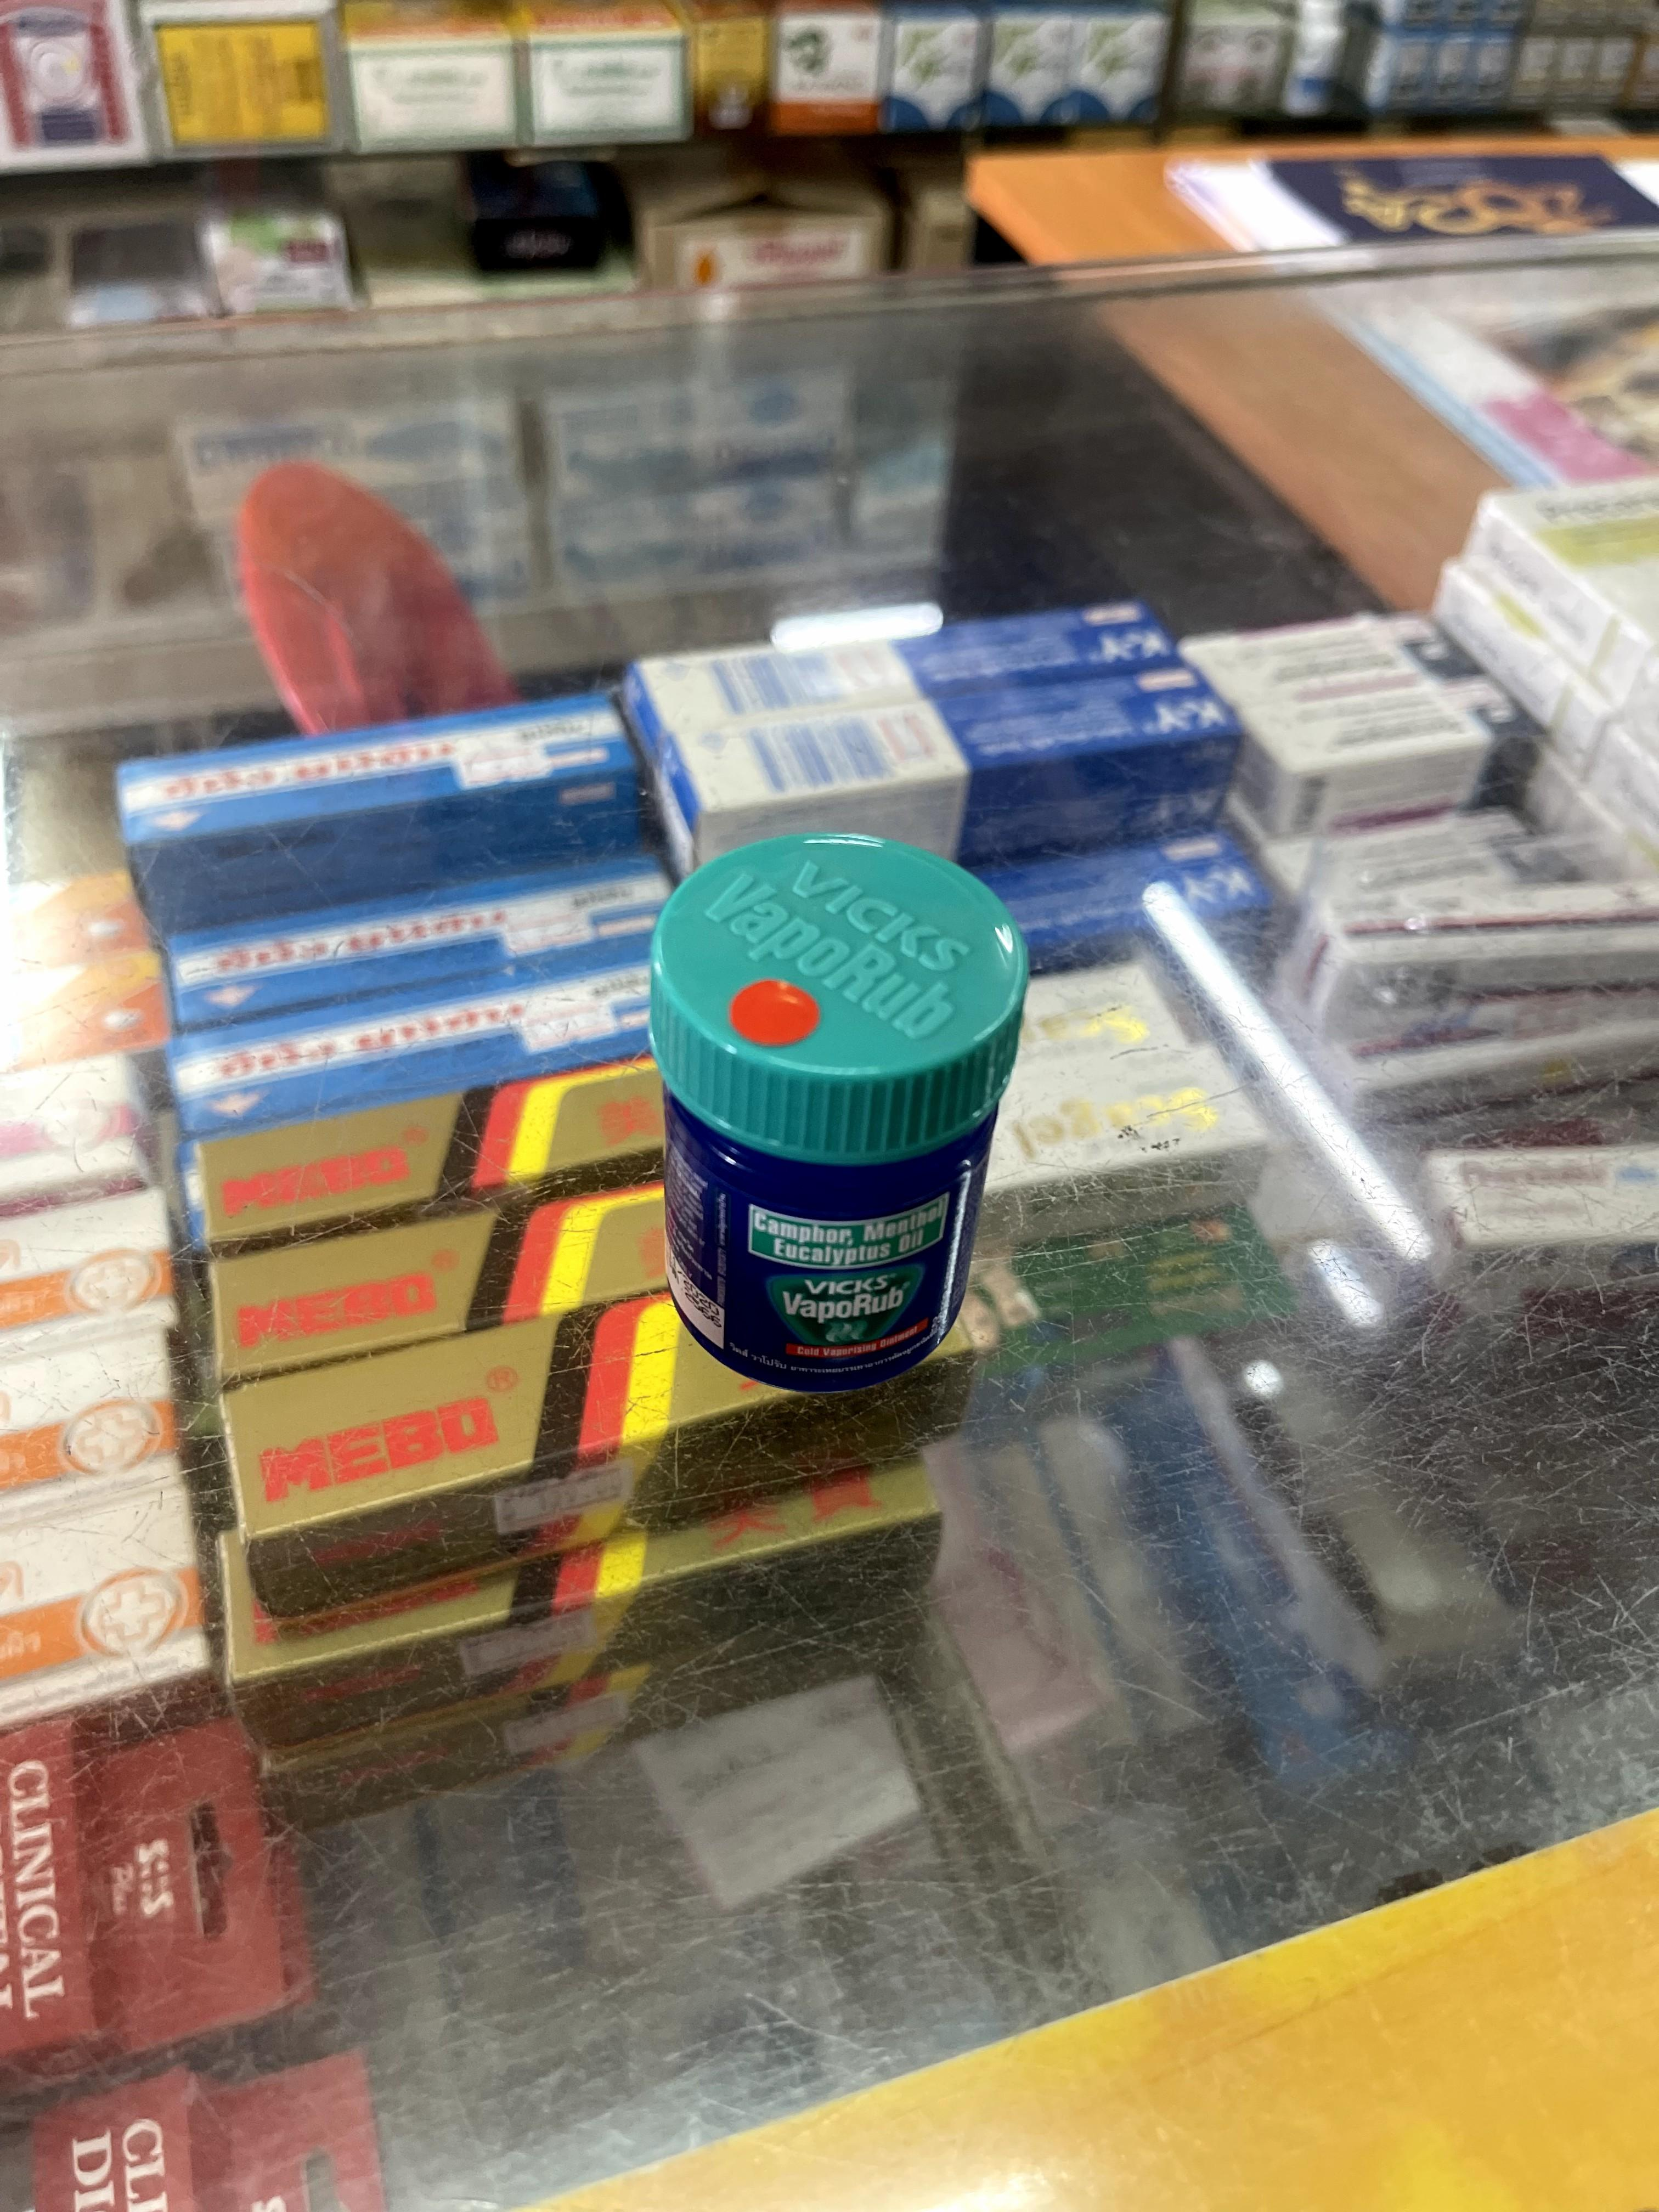VapoRub_Mid: (655, 834, 1032, 1388)
